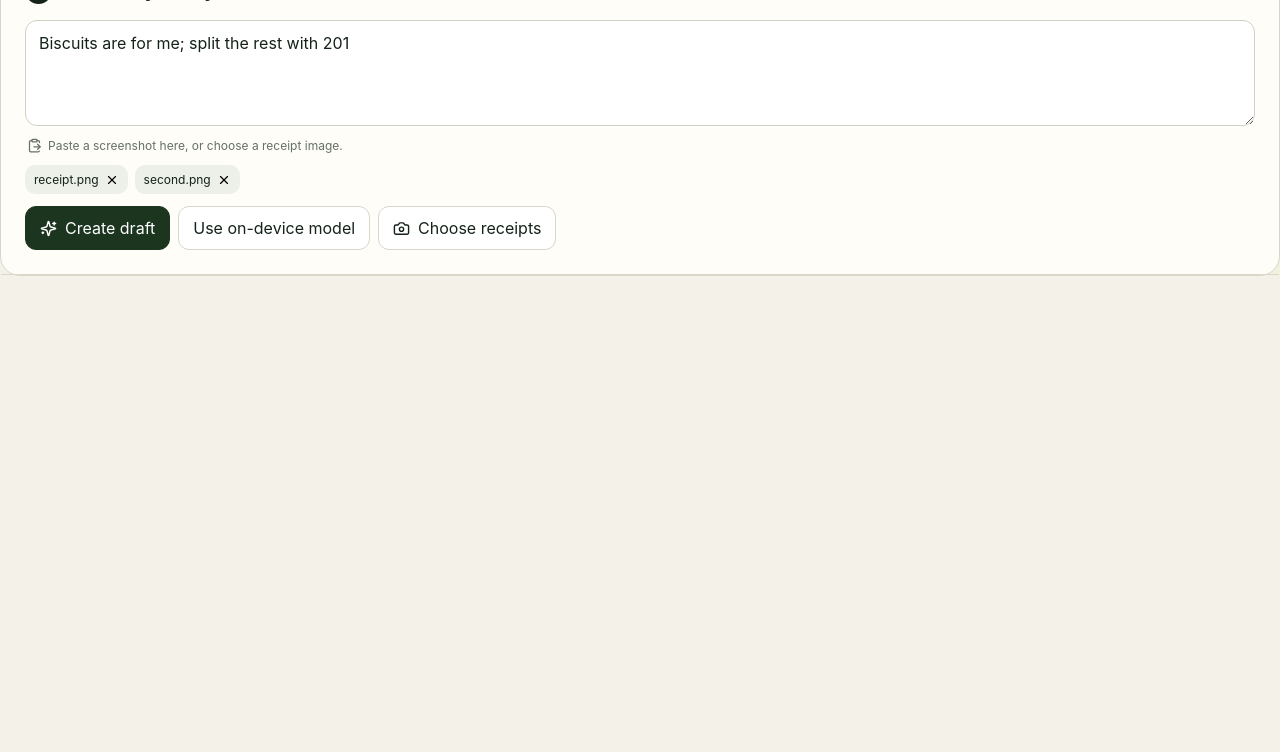
it: ExpenseEntry receipt input › queues pasted screenshots and creates one combined draft only on command
Check: the text "receipt.png" is shown, box [34,172,99,187]
Check: the text "second.png" is shown, box [144,172,211,187]
What coordinates should you click on to do the following:
click the button "Create draft"
I would click on:
 (98, 228)
Its box is [25,206,170,250].
(page scrolled)
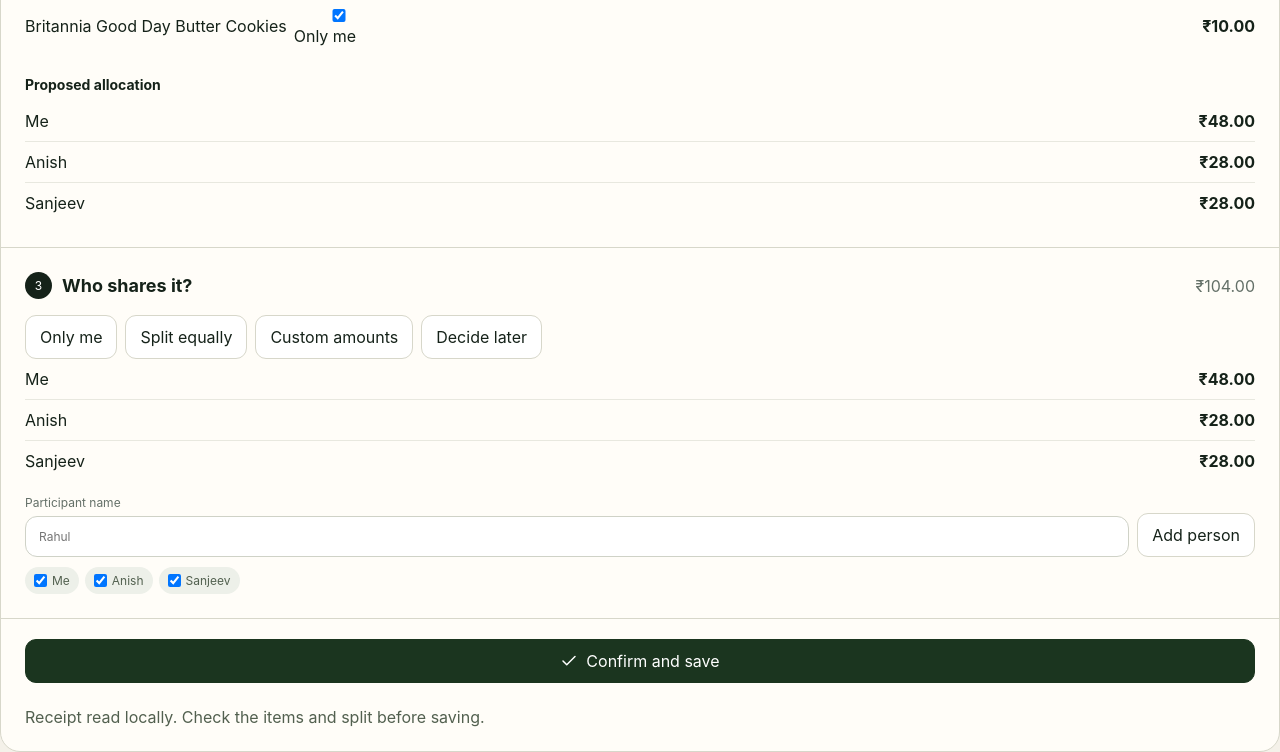
Check: the list item "Me" below "Proposed allocation" shows "₹48.00", box [1198,111,1255,131]
Check: the list item "Anish" below "Proposed allocation" shows "₹28.00", box [1199,152,1255,172]
What coordinates should you click on to do the following:
click the button "Confirm and save"
I would click on:
 (640, 661)
Its box is [25,639,1255,683].
(page scrolled)
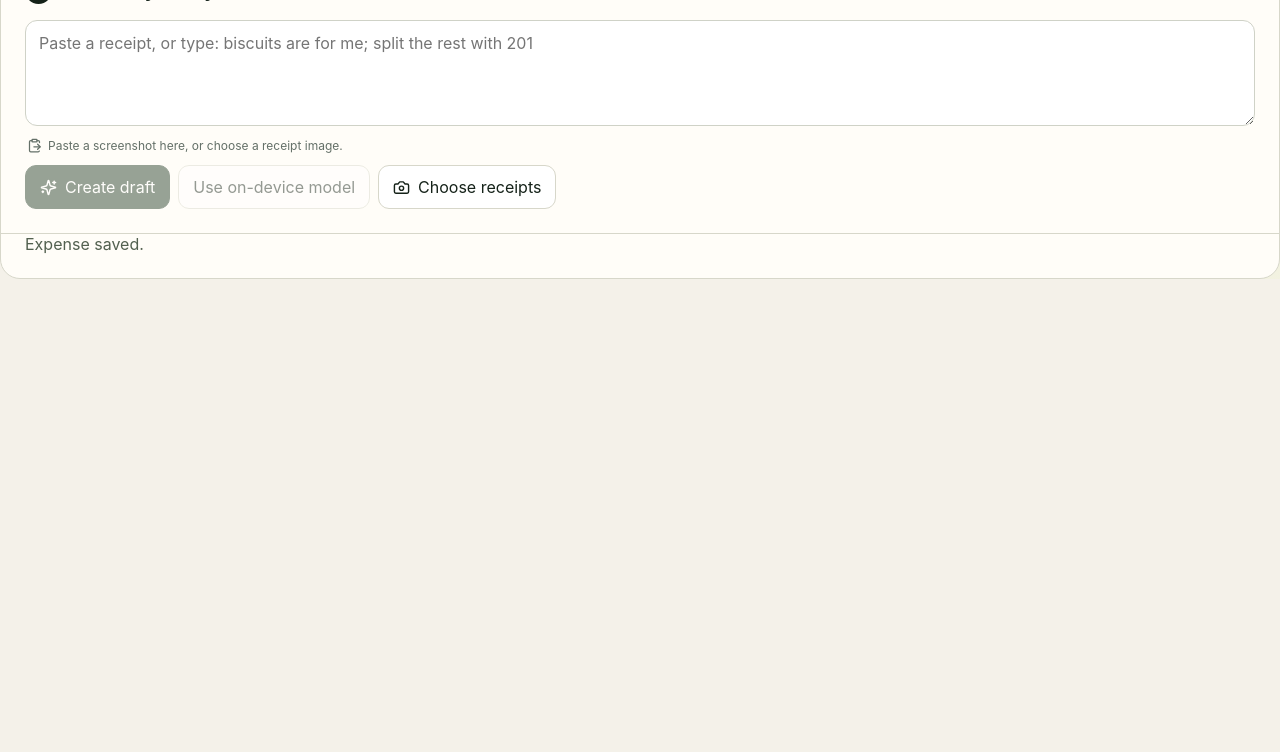
Check: the text "Expense saved." is shown, box [25,234,144,254]
